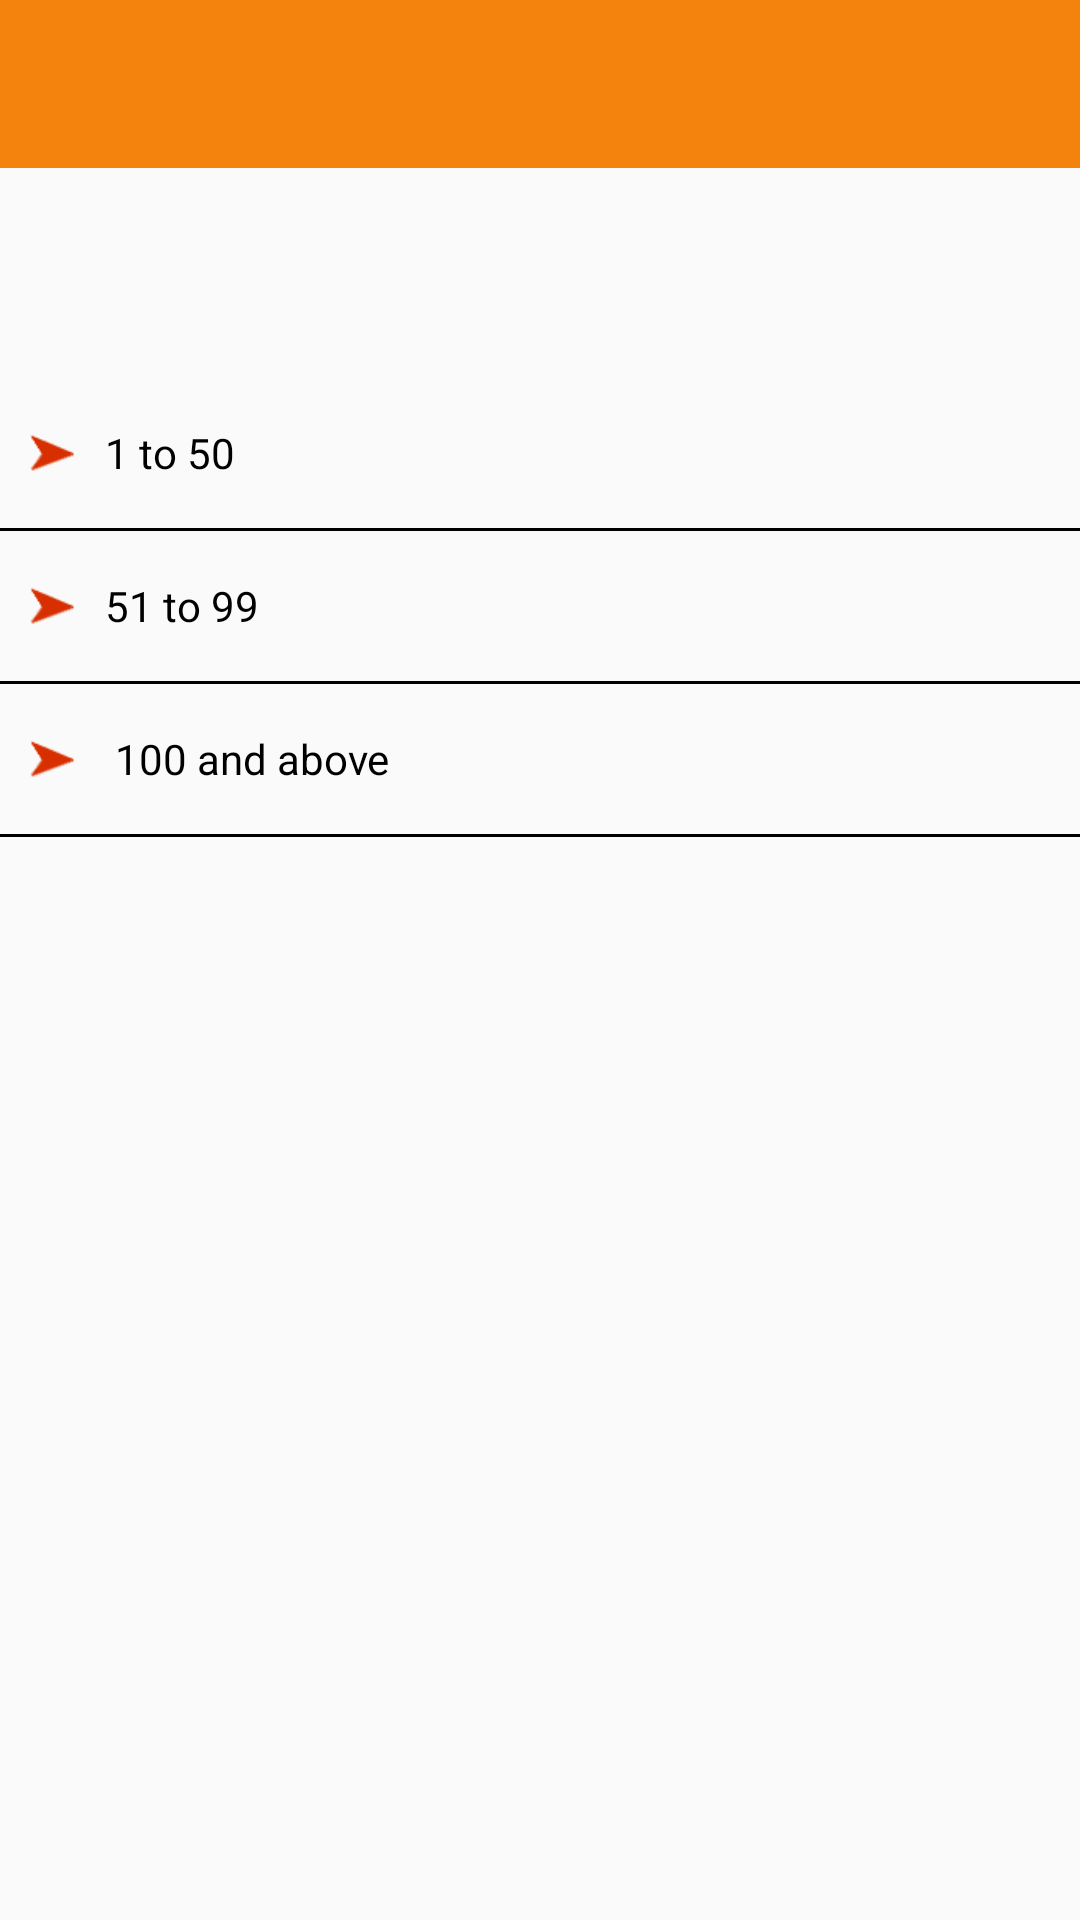

Locate icon controls on the screen. Image size 1080*1920, boxes as region(x1, y1, x2, y2).
number indicator: region(30, 435, 74, 471), region(30, 588, 74, 624), region(30, 741, 74, 777)
